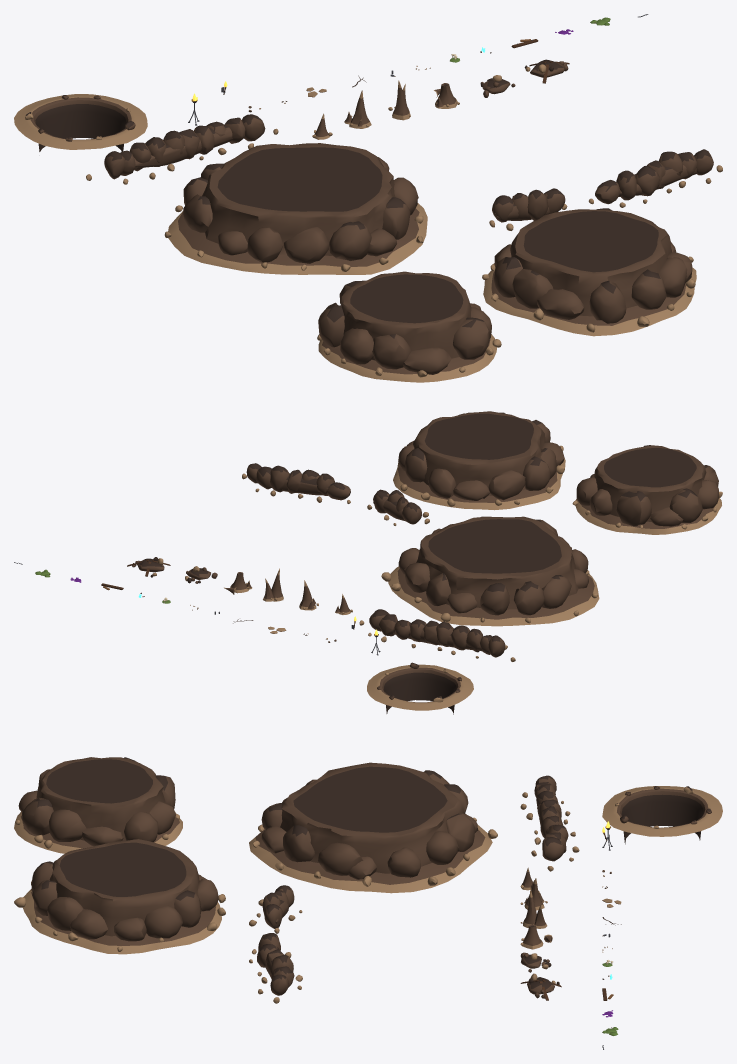
The picture shows the model from 3 angles, top to bottom: view 1: azimuth 30°, elevation 25°; view 2: azimuth 150°, elevation 25°; view 3: azimuth 270°, elevation 25°; orthographic projection. The views are drawn at different scales.
Parts seen in each view (by area): view 1: rock_mass_c, rock_mass_b, rock_mass_a, pit_rim, rock_ridge_14, rock_ridge_10, rock_ridge_6, rubble_b; view 2: rock_mass_c, rock_mass_b, rock_mass_a, pit_rim, rock_ridge_14, rock_ridge_10, rock_ridge_6; view 3: rock_mass_c, rock_mass_b, rock_mass_a, pit_rim, rock_ridge_14, rock_ridge_10, rock_ridge_6, rubble_b.
Part boxes in pixels (box(x1,y1,x2,y2)): rock_mass_c: box(164, 143, 427, 274); rock_mass_b: box(482, 208, 696, 336); rock_mass_a: box(317, 271, 501, 382); pit_rim: box(14, 94, 147, 151); rock_ridge_14: box(86, 114, 278, 184); rock_ridge_10: box(588, 149, 722, 207); rock_ridge_6: box(489, 188, 567, 230); rubble_b: box(524, 59, 569, 83); rock_mass_c: box(381, 516, 599, 626); rock_mass_b: box(393, 411, 565, 510); rock_mass_a: box(572, 445, 722, 534); pit_rim: box(367, 662, 473, 714); rock_ridge_14: box(359, 609, 515, 661); rock_ridge_10: box(242, 463, 350, 503); rock_ridge_6: box(367, 489, 429, 525); rock_mass_c: box(249, 762, 497, 893); rock_mass_b: box(14, 839, 225, 954); rock_mass_a: box(14, 757, 182, 853); pit_rim: box(602, 786, 722, 844); rock_ridge_14: box(520, 775, 579, 871); rock_ridge_10: box(249, 933, 302, 1003); rock_ridge_6: box(249, 885, 302, 933); rubble_b: box(520, 973, 561, 1000).
Size of the model in its own units: 44.13 by 5.4 by 49.97.
